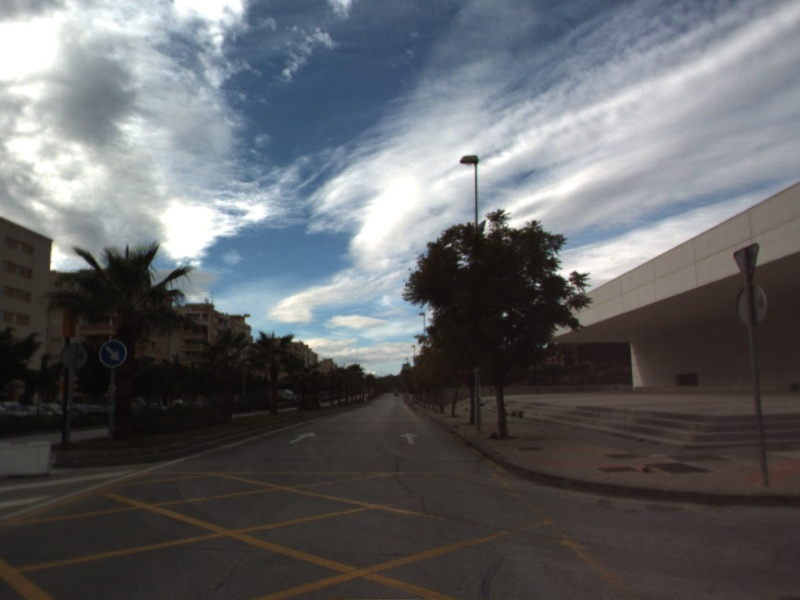STRAIGHT: (287, 430, 318, 445), (397, 431, 421, 446)
